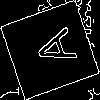A: (25, 25, 78, 73)
